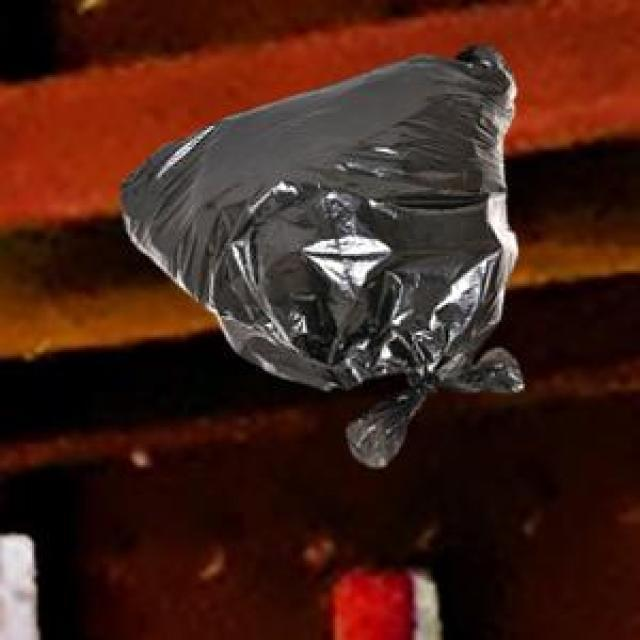miscellaneous trash: (115, 41, 518, 463)
